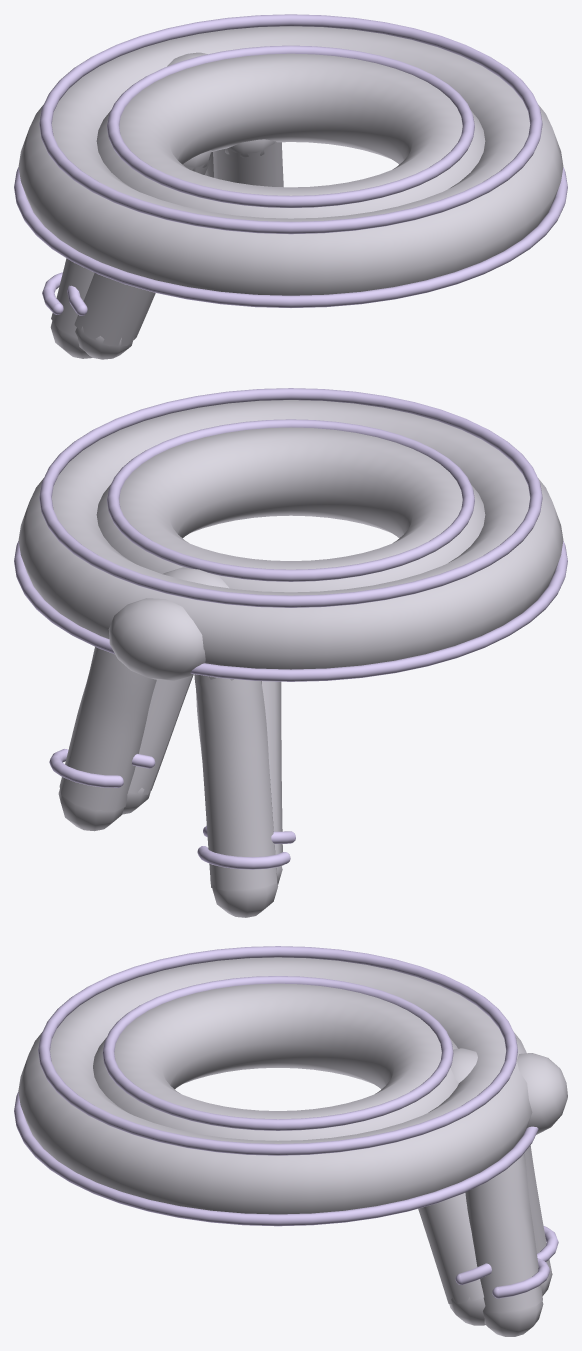
The model's file is spider_silk_scarf.glb.
3 views of the same model, one above another, from view 1: azimuth 30°, elevation 25°; view 2: azimuth 150°, elevation 25°; view 3: azimuth 270°, elevation 25° (orthographic). The views are drawn at different scales.
Parts seen in each view (by area): view 1: BodyBoy, BodyGirl; view 2: BodyBoy, BodyGirl; view 3: BodyBoy, BodyGirl.
Boxes of the visible parts, left/top/right/bottom form: BodyBoy: left=14, top=14, right=567, bottom=358; BodyGirl: left=67, top=45, right=485, bottom=359; BodyBoy: left=14, top=388, right=567, bottom=917; BodyGirl: left=96, top=419, right=485, bottom=884; BodyBoy: left=14, top=946, right=567, bottom=1336; BodyGirl: left=93, top=976, right=491, bottom=1325.
Bounding box in the file's own units: 0.3981 × 0.2459 × 0.4175.
